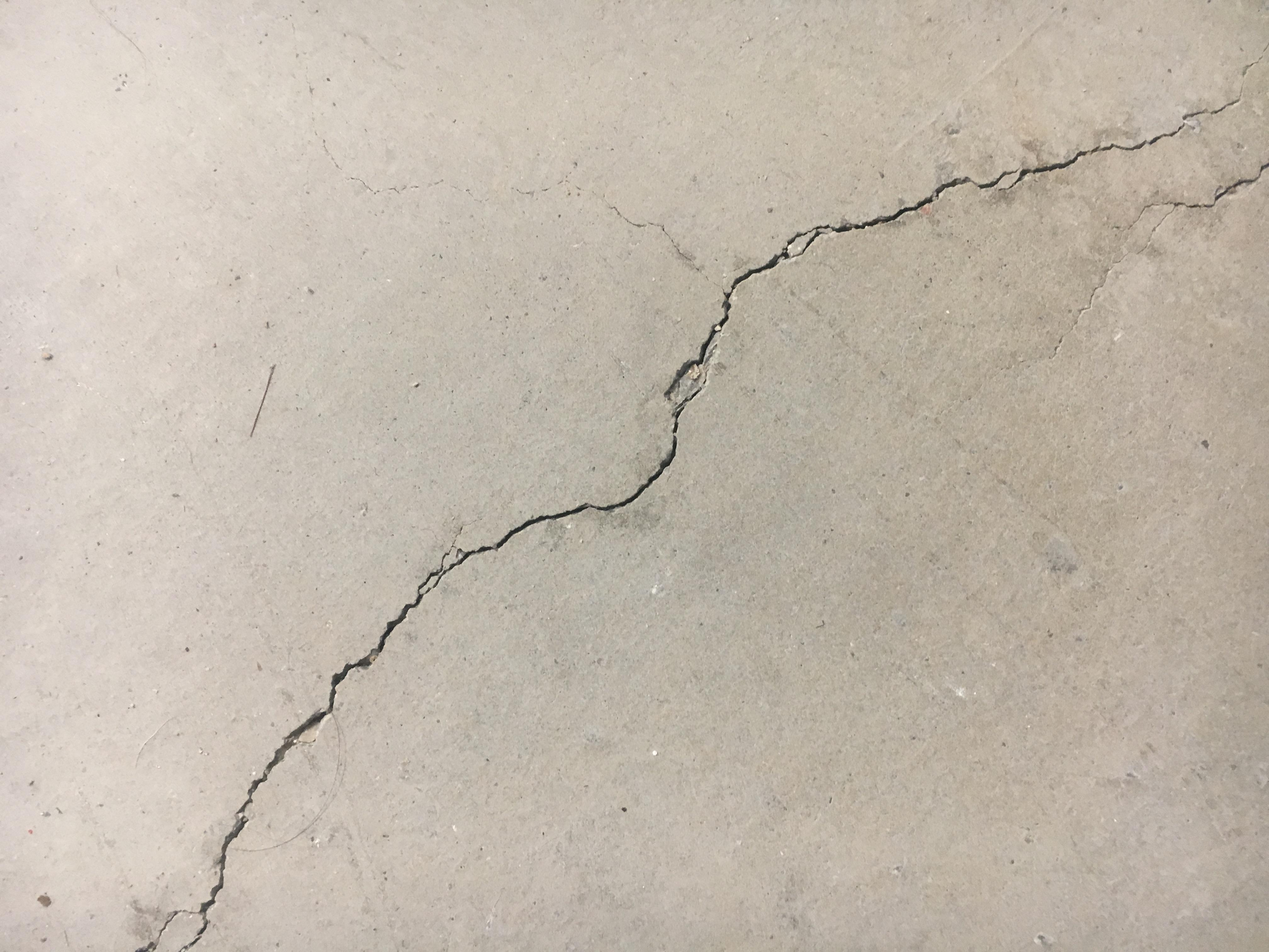Diagonal Crack: (135, 50, 1265, 948)
Hairline-Crack: (1052, 162, 1269, 355), (322, 139, 491, 203), (605, 203, 704, 273), (507, 186, 552, 197), (556, 180, 581, 198)
